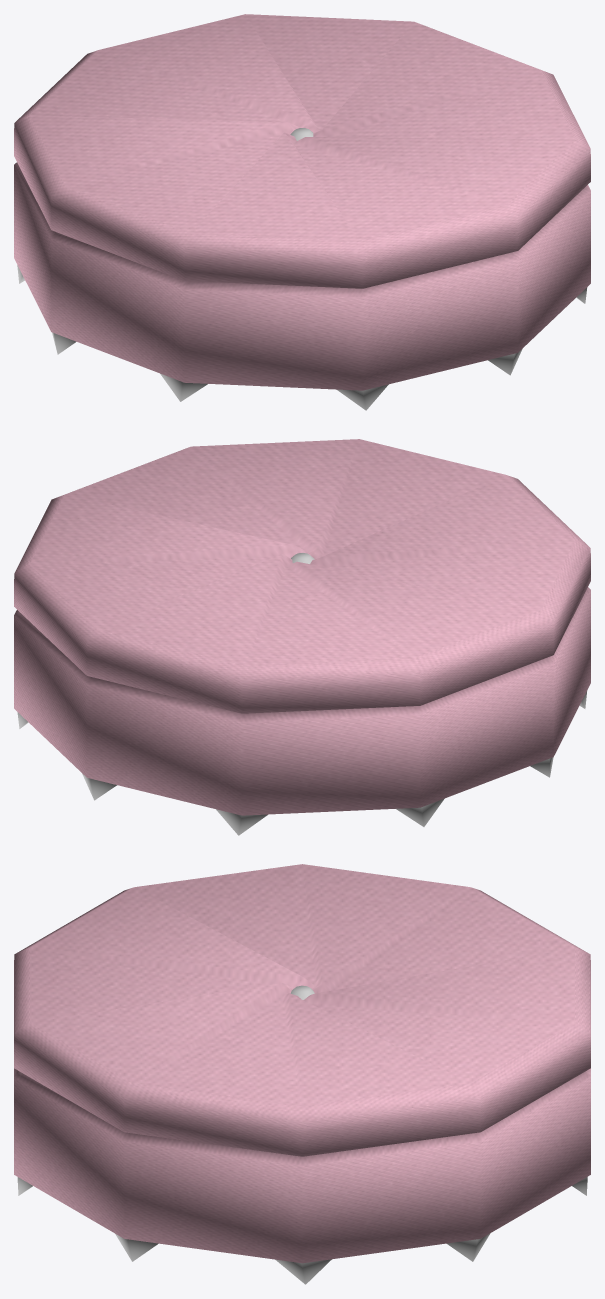
File: Ottoman_B_11.FBX
The picture shows the model from 3 angles, top to bottom: view 1: azimuth 30°, elevation 25°; view 2: azimuth 150°, elevation 25°; view 3: azimuth 270°, elevation 25°; orthographic projection. The views are drawn at different scales.
Parts seen in each view (by area): view 1: Ottoman_02; view 2: Ottoman_02; view 3: Ottoman_02.
Part boxes in pixels (box(x1,y1,x2,y2)): Ottoman_02: box(14, 14, 590, 410); Ottoman_02: box(14, 439, 590, 835); Ottoman_02: box(14, 864, 590, 1284).
Bounding box in the file's own units: 232 × 73.27 × 220.
